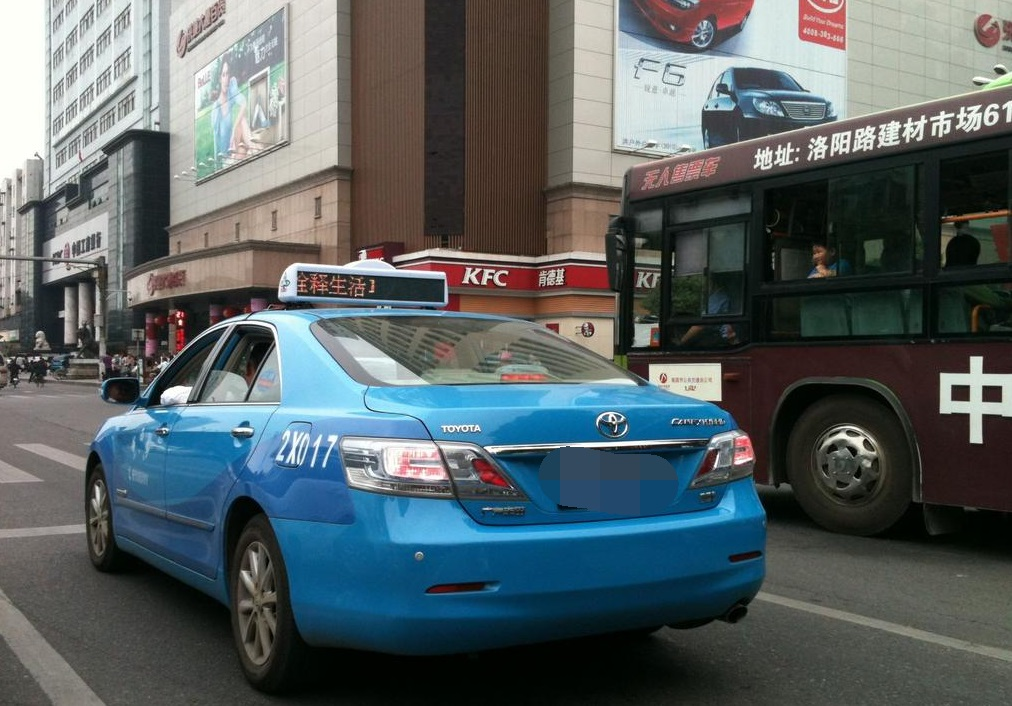taxi: (82, 259, 766, 692)
